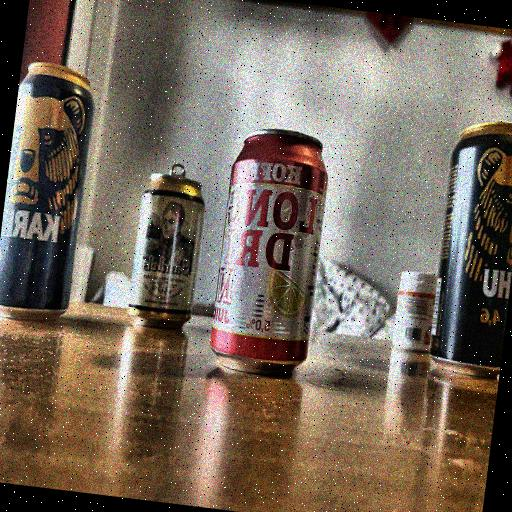karhu: (0, 61, 106, 332), (423, 109, 512, 380)
koff: (199, 110, 356, 380)
sandels: (118, 164, 216, 337)
